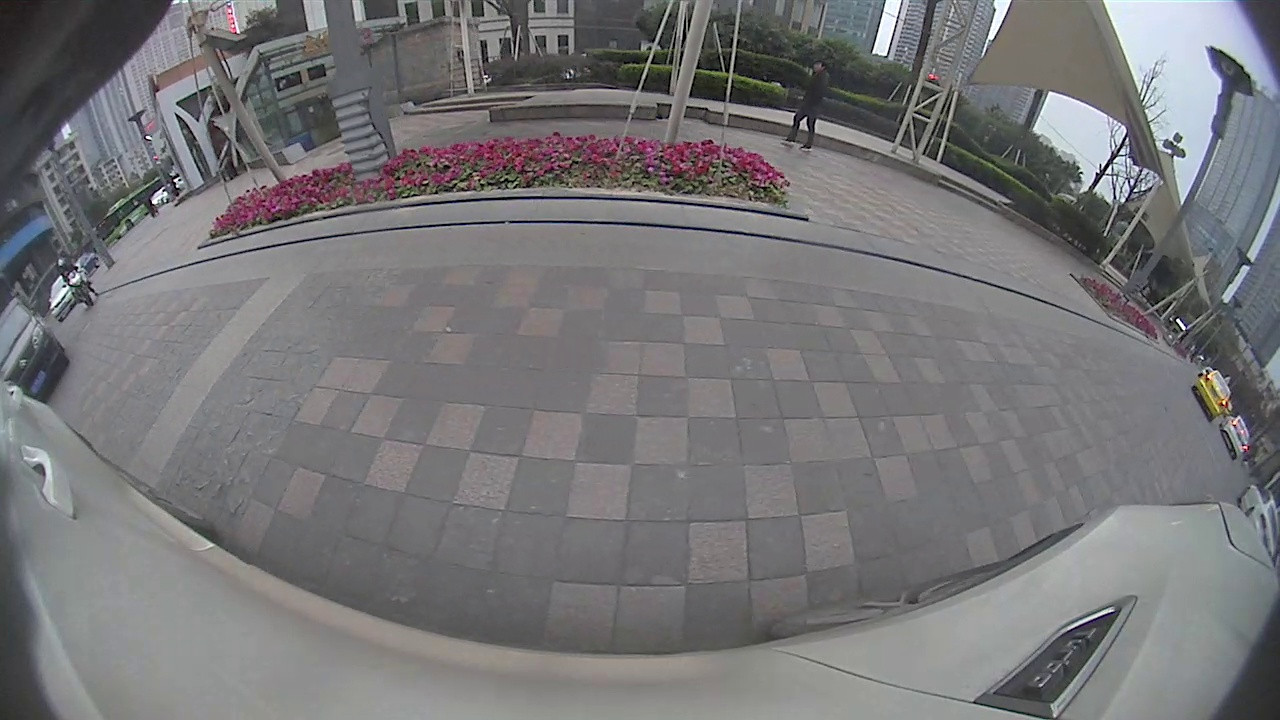car: (2, 295, 70, 402), (1192, 368, 1232, 422)
person: (804, 53, 828, 148)
rider: (57, 258, 98, 308)
